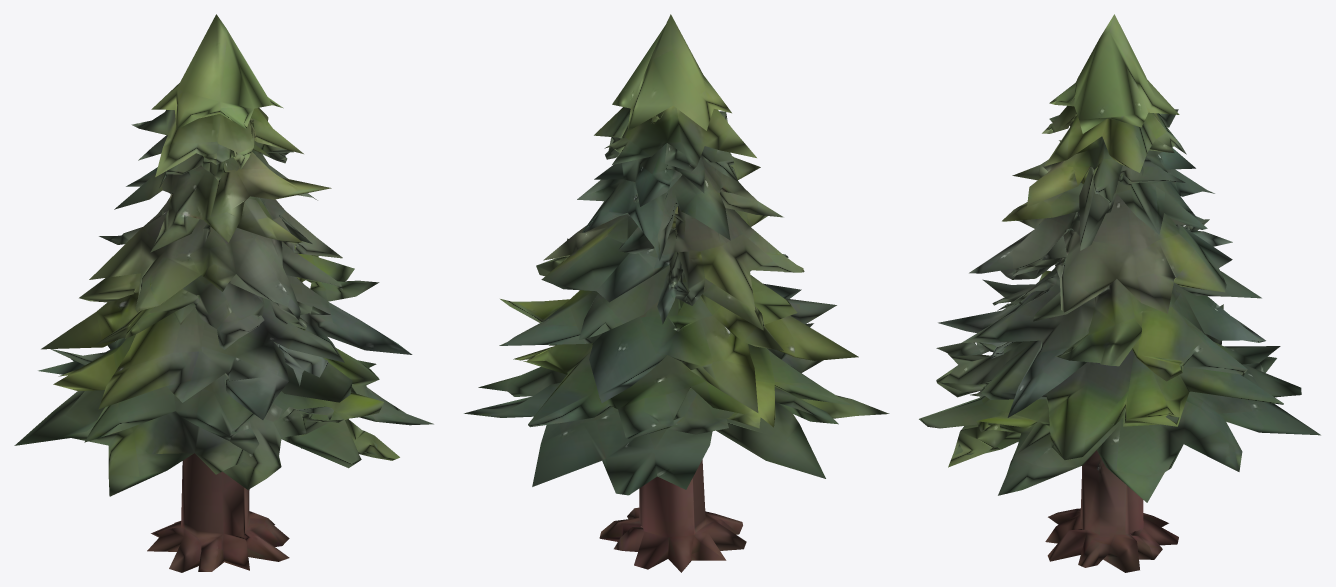
File: pine_tree.glb
3 renders of one model, left to right at view 1: azimuth 30°, elevation 25°; view 2: azimuth 150°, elevation 25°; view 3: azimuth 270°, elevation 25°, orthographic.
Parts seen in each view (by area): view 1: tripo_node_5e1bfb31-899b-4f1d-b739-1b8a9103bf67; view 2: tripo_node_5e1bfb31-899b-4f1d-b739-1b8a9103bf67; view 3: tripo_node_5e1bfb31-899b-4f1d-b739-1b8a9103bf67.
Part boxes in pixels (bbox=[...]): tripo_node_5e1bfb31-899b-4f1d-b739-1b8a9103bf67: bbox=[14, 14, 433, 572]; tripo_node_5e1bfb31-899b-4f1d-b739-1b8a9103bf67: bbox=[464, 14, 889, 572]; tripo_node_5e1bfb31-899b-4f1d-b739-1b8a9103bf67: bbox=[919, 14, 1320, 572].
Size of the model in its own units: 0.6988 by 0.9967 by 0.6887.
Materials: 1 (1 with a texture image).
